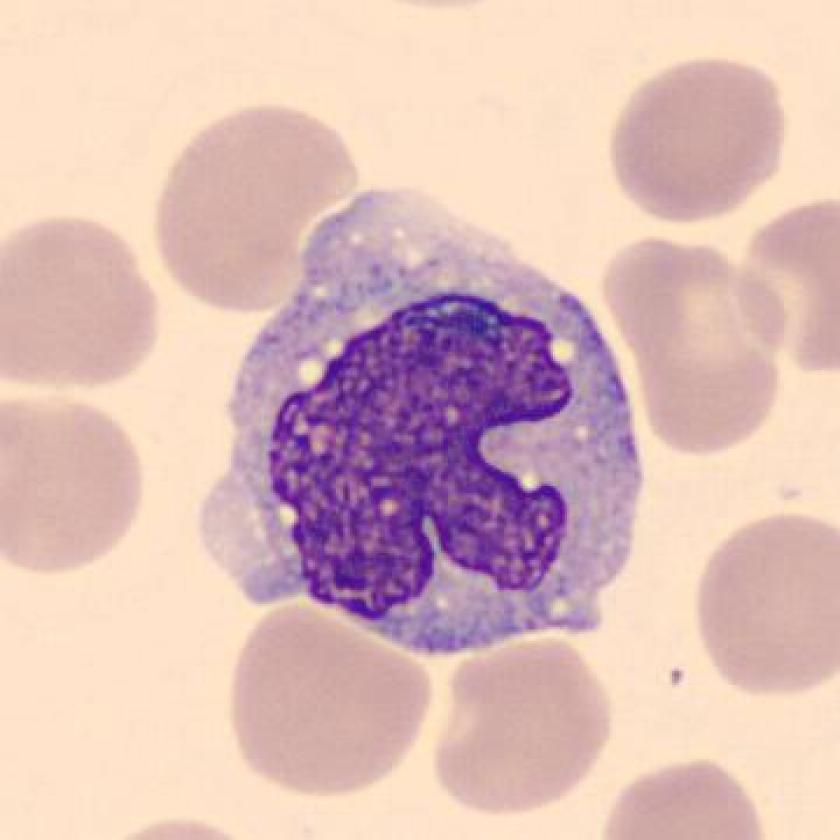monocyte: (188, 168, 661, 693)
